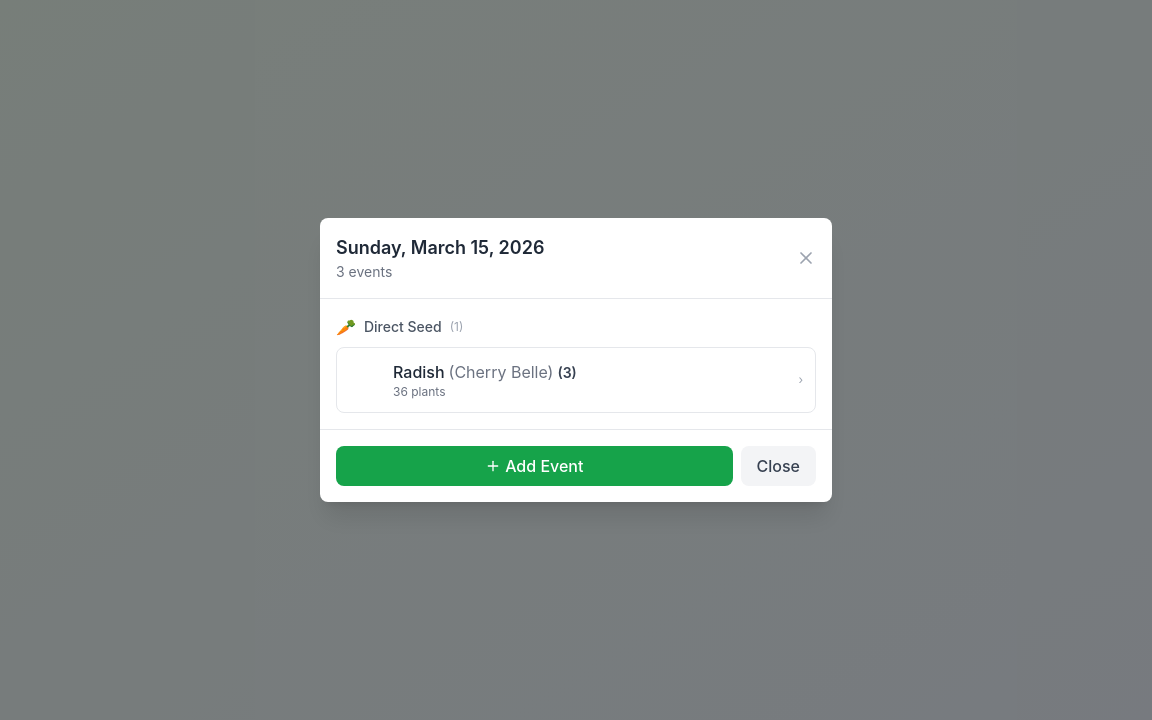
Scenario: DayDetailModal — same-day same-bed same-plant rows collapse to one grouped row › clicking a grouped row opens GroupedEventsModal (count + plant name visible in header)
Click the element showing "Radish(Cherry Belle)(3) 36 plants ›" at (576,380), box [336,347,816,413]
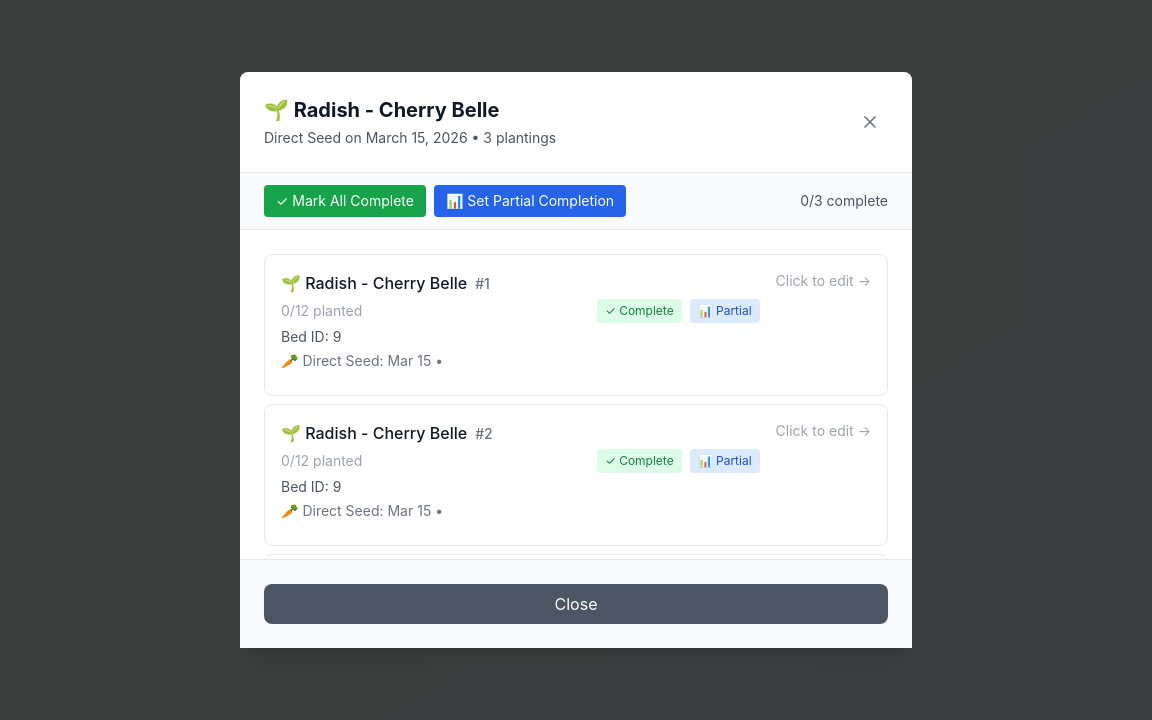
Result: the text "Direct Seed on March 15, 2026 • 3 plantings" is shown at [264,128,556,148]
